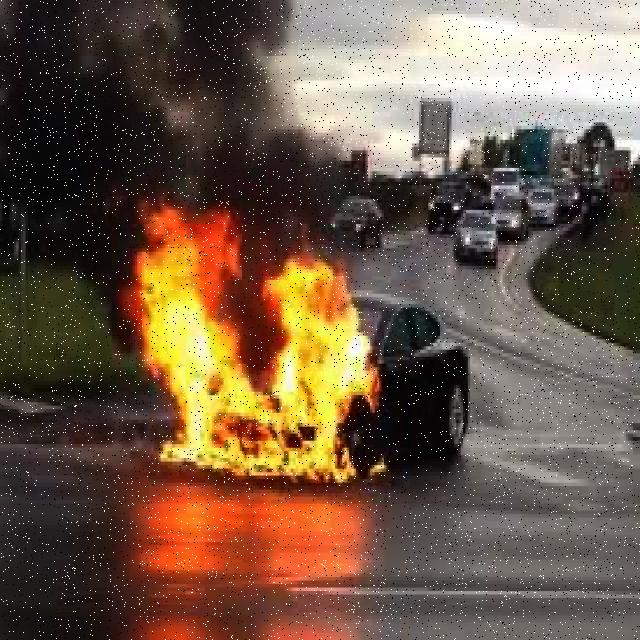fire: (138, 224, 380, 479)
